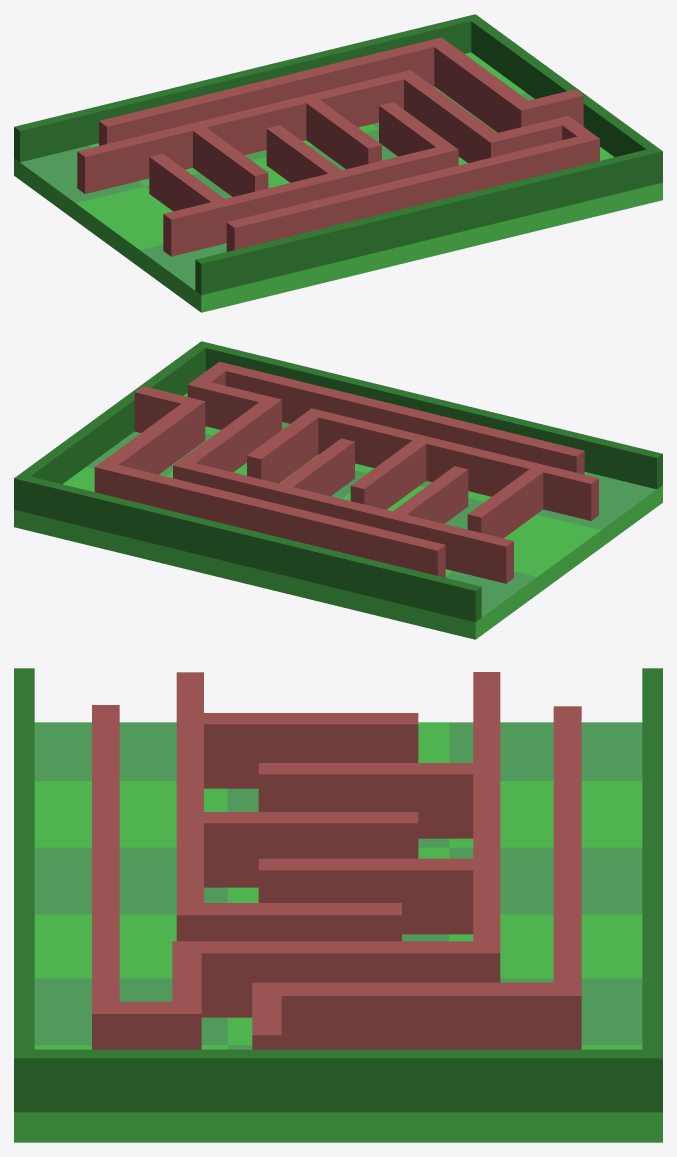
Rendered from maze04.fbx.
The picture shows the model from 3 angles, top to bottom: view 1: azimuth 30°, elevation 25°; view 2: azimuth 150°, elevation 25°; view 3: azimuth 270°, elevation 25°; orthographic projection. The views are drawn at different scales.
Parts seen in each view (by area): view 1: pasted__pasted__pCube7, pCube11, pCube8, pasted__pCube11 (×2), pasted__pasted__pCube11 (×2), pasted__pasted__pasted__pCube11; view 2: pasted__pasted__pCube7, pCube11, pCube8, pasted__pCube11 (×2), pasted__pasted__pCube11 (×2), pasted__pasted__pasted__pCube11; view 3: pasted__pasted__pCube7, pCube11, pCube8, pasted__pCube11 (×2), pasted__pasted__pCube11 (×2), pasted__pasted__pasted__pCube11.
Part boxes in pixels (x1=…): pasted__pasted__pCube7: x1=14, y1=14, x2=662, y2=312; pCube11: x1=77, y1=70, x2=599, y2=251; pCube8: x1=99, y1=37, x2=583, y2=145; pasted__pCube11 (×2): x1=163, y1=99, x2=458, y2=256; pasted__pasted__pCube11 (×2): x1=193, y1=125, x2=341, y2=196; pasted__pasted__pasted__pCube11: x1=149, y1=153, x2=224, y2=211; pasted__pasted__pCube7: x1=14, y1=341, x2=662, y2=639; pCube11: x1=173, y1=361, x2=584, y2=583; pCube8: x1=94, y1=386, x2=445, y2=577; pasted__pCube11 (×2): x1=247, y1=408, x2=598, y2=520; pasted__pasted__pCube11 (×2): x1=350, y1=440, x2=468, y2=523; pasted__pasted__pasted__pCube11: x1=467, y1=469, x2=543, y2=538; pasted__pasted__pCube7: x1=14, y1=668, x2=662, y2=1142; pCube11: x1=92, y1=672, x2=500, y2=1049; pCube8: x1=252, y1=706, x2=581, y2=1049; pasted__pCube11 (×2): x1=176, y1=672, x2=473, y2=941; pasted__pasted__pCube11 (×2): x1=204, y1=763, x2=473, y2=887; pasted__pasted__pasted__pCube11: x1=204, y1=713, x2=418, y2=788.
Bounding box in the file's own units: 22.4 × 2.64 × 15.75.
